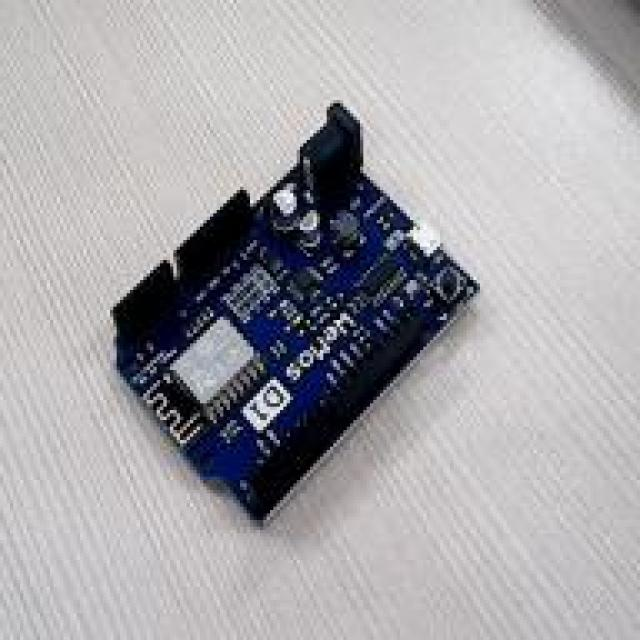Wemos: (114, 104, 478, 518)
